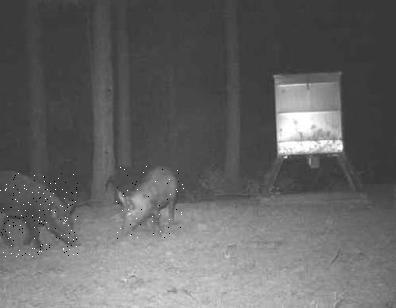Hog: (0, 173, 78, 257), (116, 166, 184, 239)
